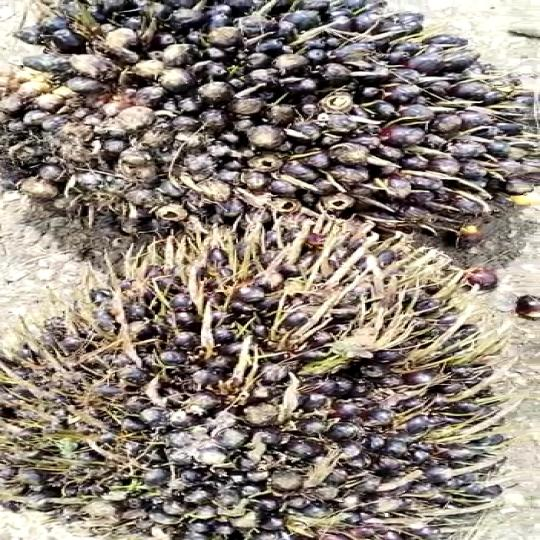mentah: (0, 226, 540, 538), (0, 0, 540, 261)
